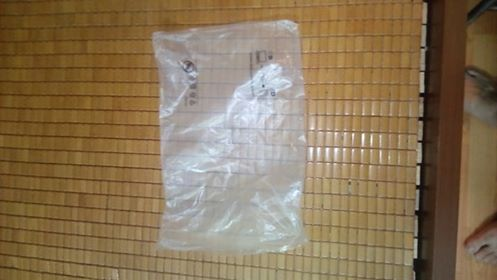plastic bag: (150, 19, 306, 254)
